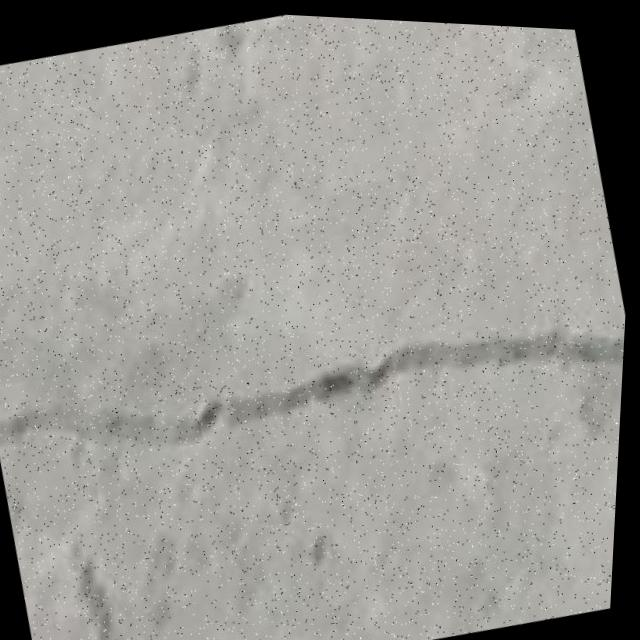Crack: (0, 251, 630, 521)
